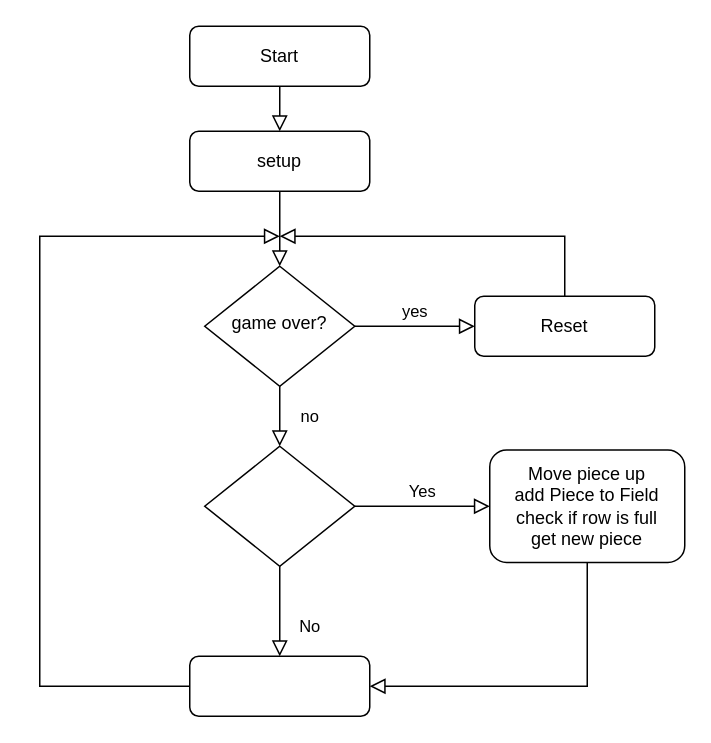
The diagram is 711 pixels wide and 743 high, and some of its shapes have lost their labels. Each missing label, with the centre of its shape:
Collision?: the point at 279,505
move piece show static field: the point at 279,685
